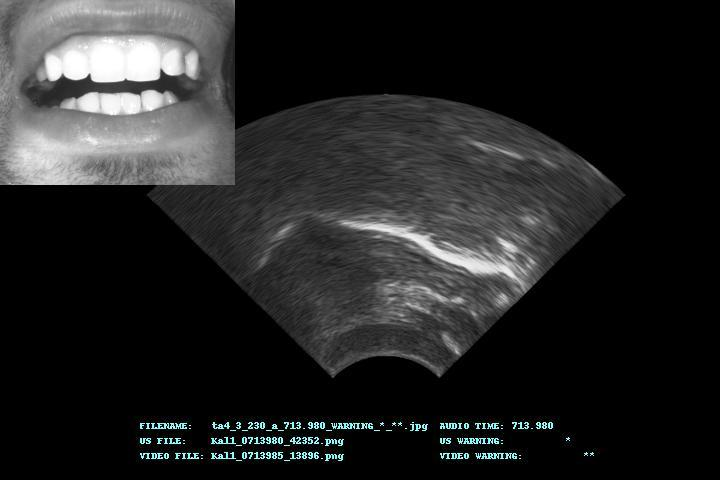-a-: (151, 97, 623, 376)
